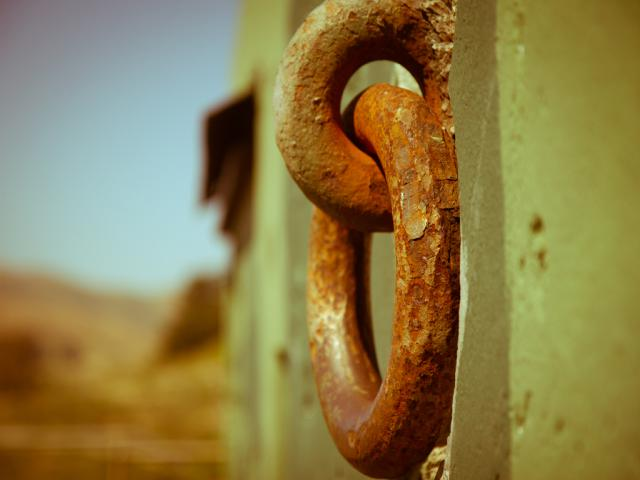Door-handle: (272, 0, 462, 480)
